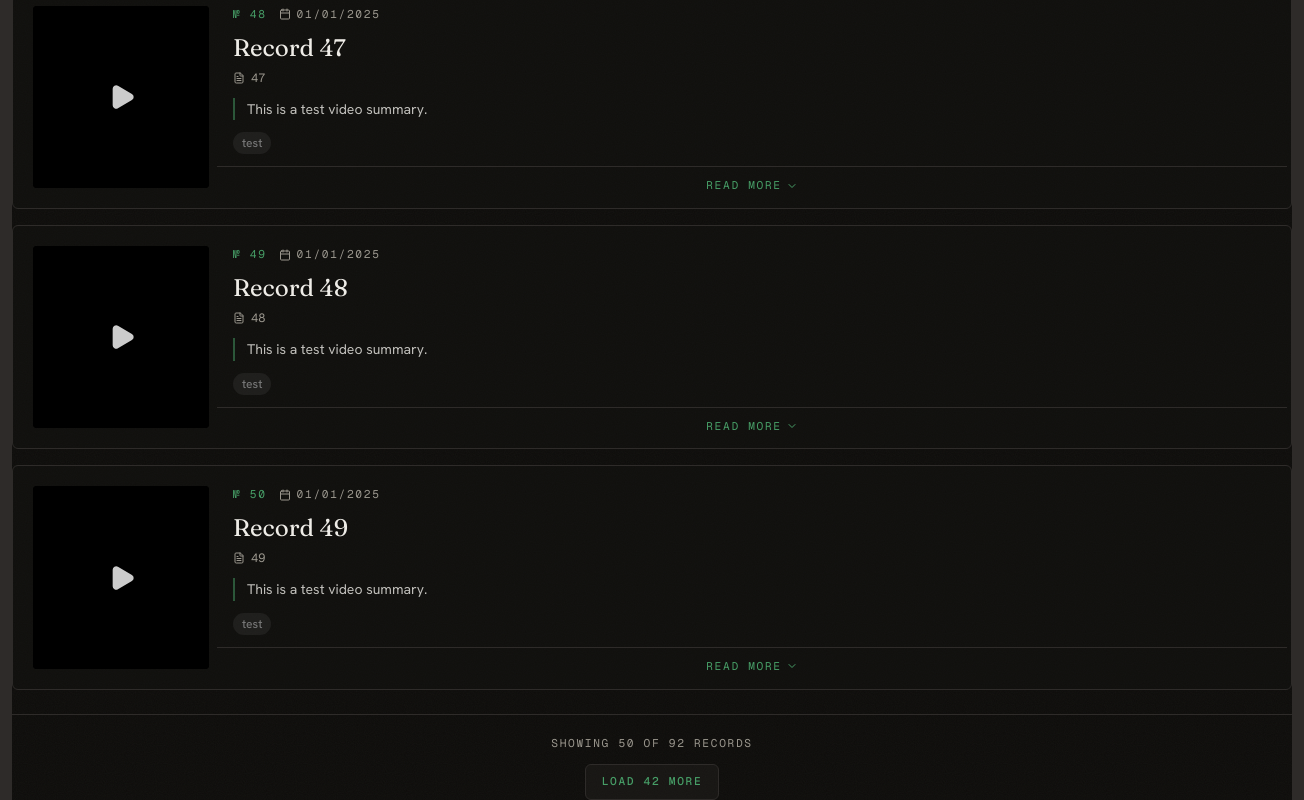
it: VodDiaryScreen — paging and the honest count › says how many of the range are shown and loads the next page on demand
This screenshot has width=1304, height=800.
(page scrolled)
Check: the text "Showing 50 of 92 records" is shown, box top-left (551, 735), bottom-right (753, 752)
What coordinates should you click on to do the following:
click the button "Load 42 more"
I would click on:
 (652, 782)
Its box is top-left (585, 764), bottom-right (719, 799).
(page scrolled)
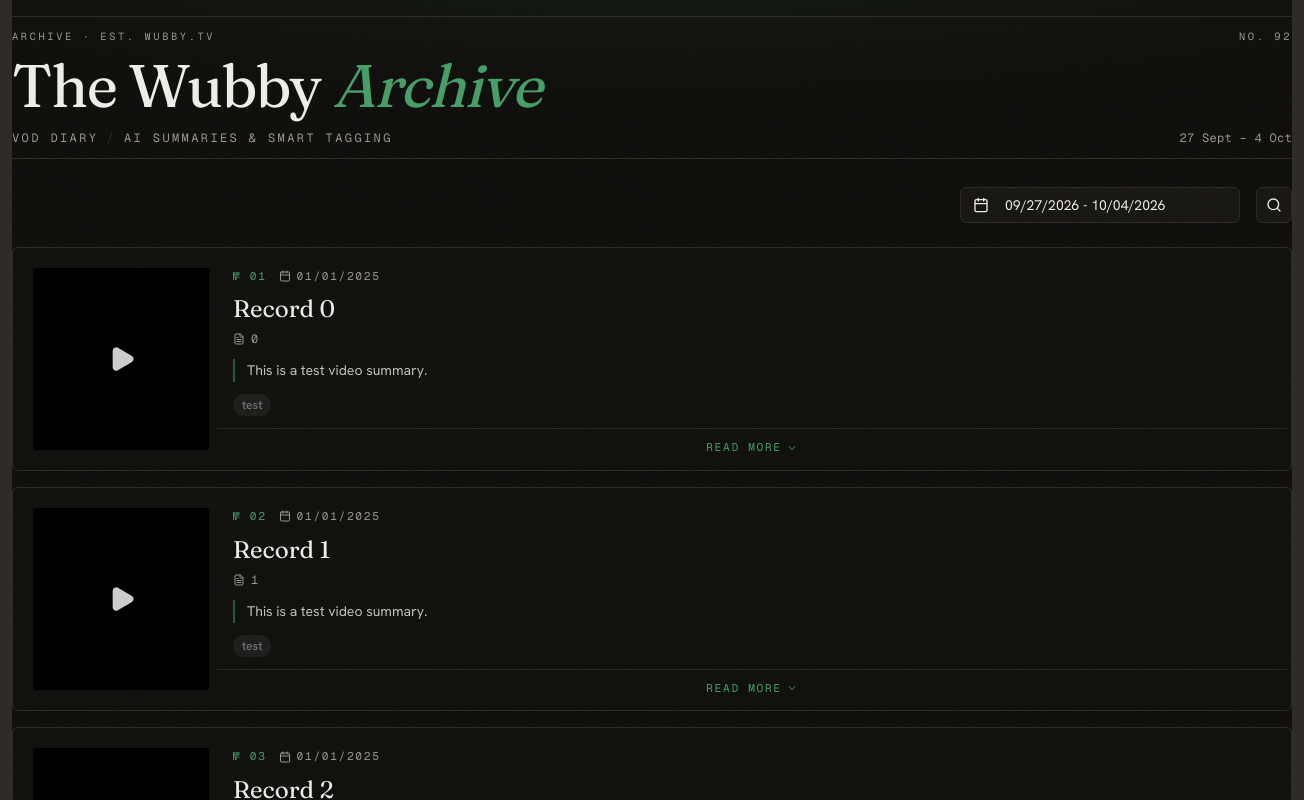
Check: the heading "Record 0" is shown, box top-left (233, 294), bottom-right (335, 323)
Check: the button "Load 42 more" is gone
